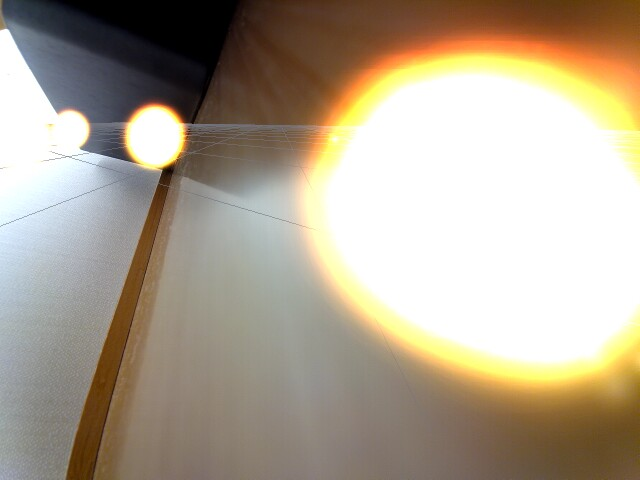firebig: (241, 37, 640, 401)
